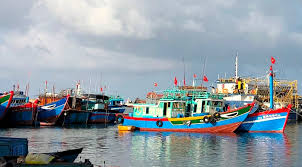tau_dansu: (125, 90, 254, 137), (252, 85, 292, 135), (58, 77, 92, 132), (11, 84, 44, 126), (35, 86, 69, 124)
